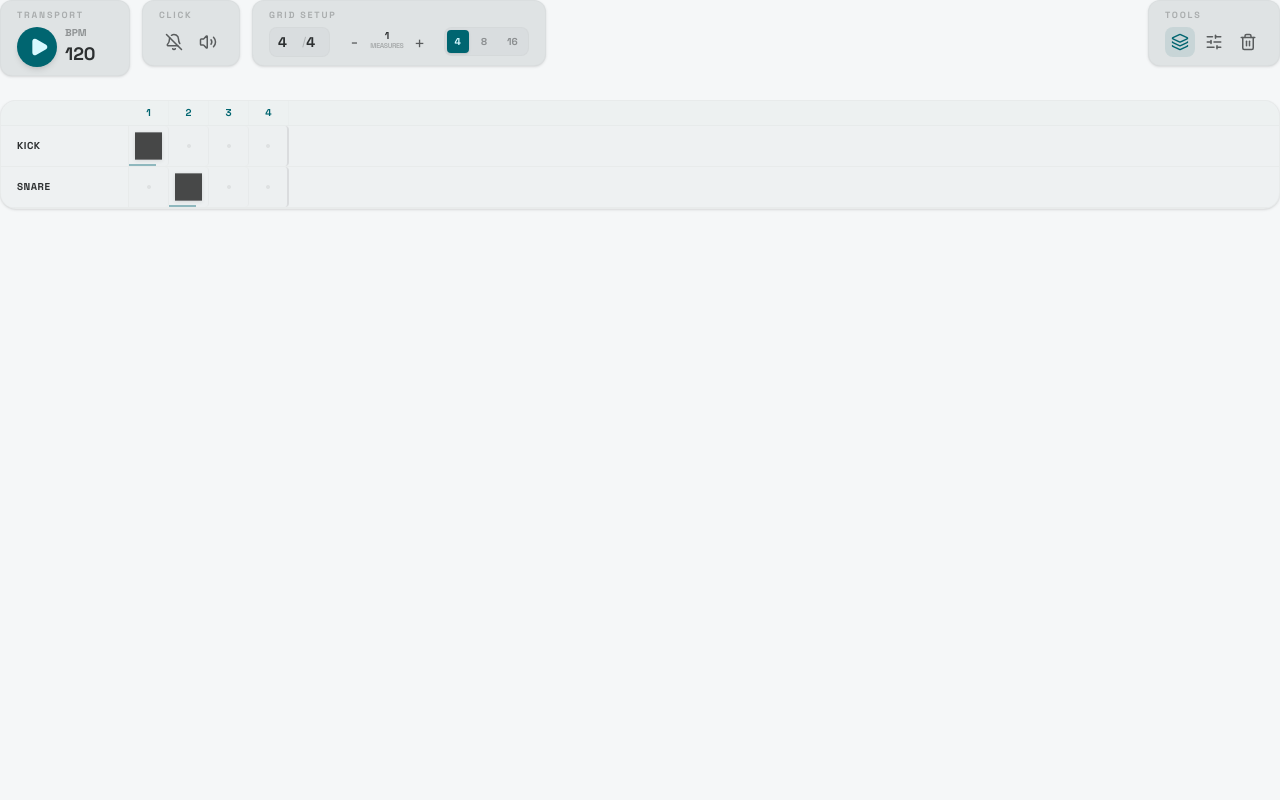
GrooveGridEditor › positions the symbol picker correctly on context menu
Step 1. Right-click the 1st button with test id "note-cell" → (149, 146), box [129,126,169,166]
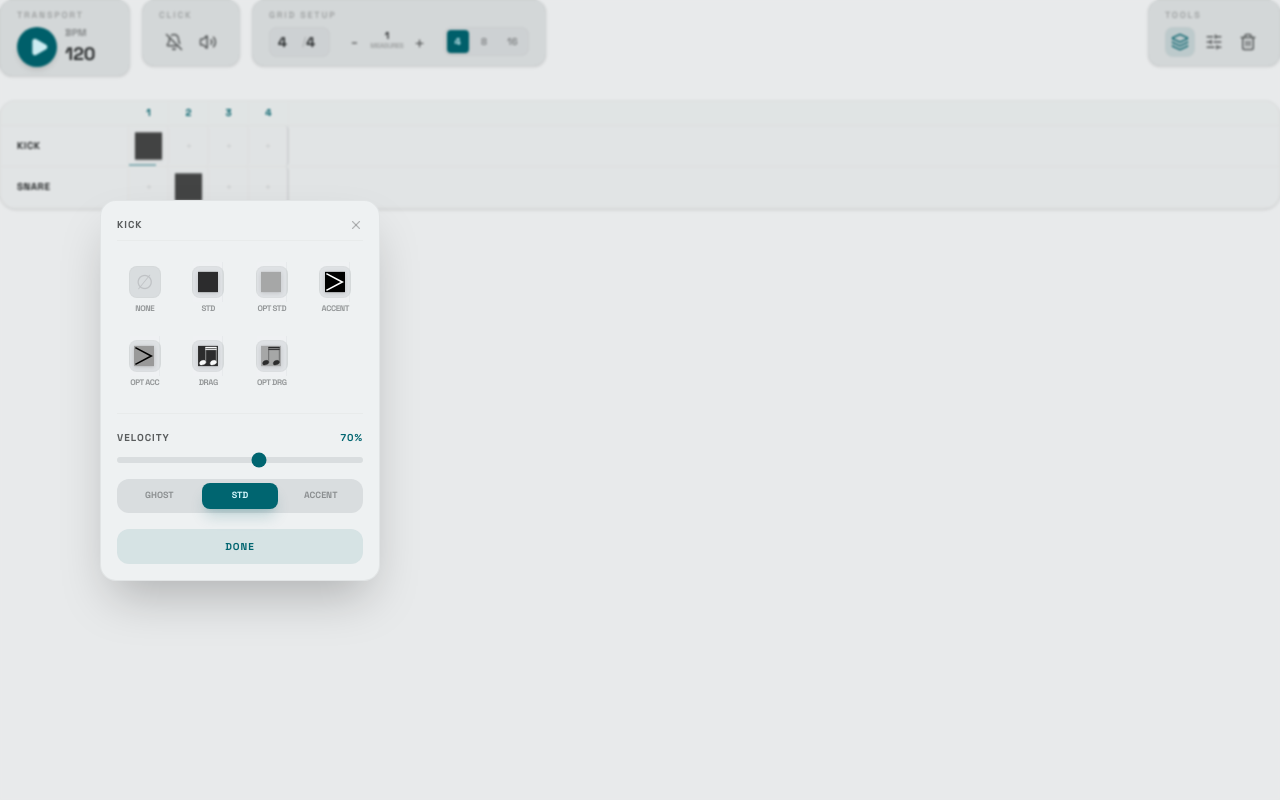
Result: the element with test id "symbol-picker" is shown at [100,200,380,580]
